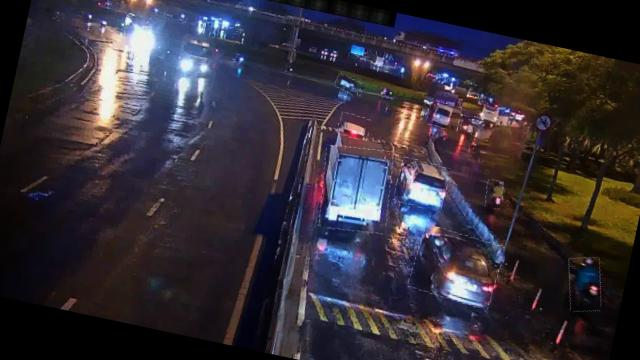Bike: (562, 253, 608, 316), (483, 178, 505, 210)
Bus: (426, 100, 462, 131)
Car: (408, 224, 506, 308), (392, 157, 450, 211), (336, 111, 372, 140), (457, 114, 486, 137), (334, 74, 363, 96)
Truck: (312, 140, 400, 238)
